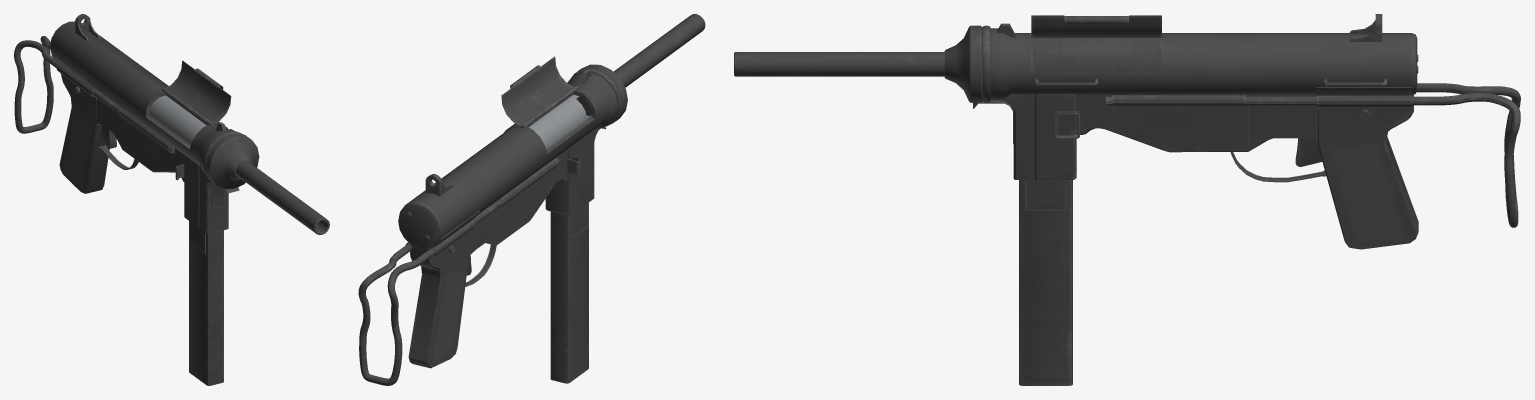
The model's file is automatic.glb.
3 renders of one model, left to right at view 1: azimuth 30°, elevation 25°; view 2: azimuth 150°, elevation 25°; view 3: azimuth 270°, elevation 25°, orthographic. The views are drawn at different scales.
Visible parts, largest first — view 1: automatic; view 2: automatic; view 3: automatic.
Boxes of the visible parts, x1=… form: automatic: x1=14, y1=14, x2=329, y2=385; automatic: x1=358, y1=14, x2=705, y2=385; automatic: x1=734, y1=14, x2=1520, y2=385.
Bounding box in the file's own units: 0.0457 × 0.2397 × 0.4499.
Materials: 1 (1 with a texture image).
